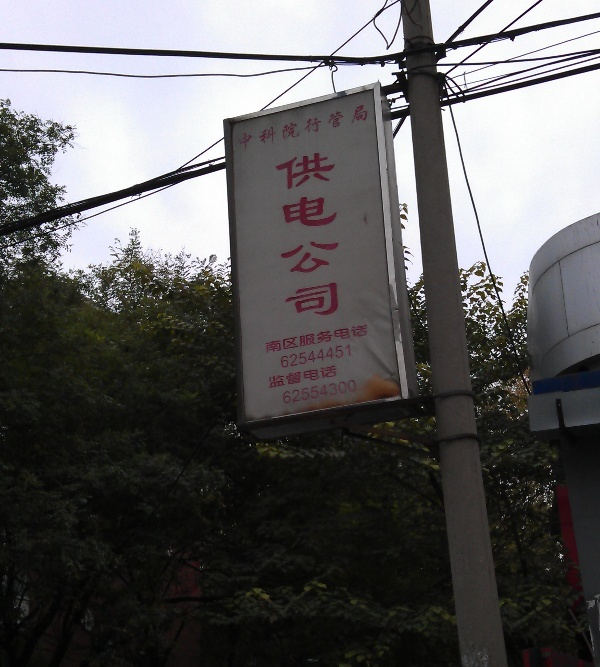text: (289, 146, 304, 323), (305, 146, 320, 323), (321, 146, 336, 323), (274, 146, 288, 323), (337, 146, 345, 323), (241, 104, 256, 153), (257, 104, 272, 153), (273, 104, 288, 153), (289, 104, 304, 153), (305, 104, 320, 153), (321, 104, 336, 153), (337, 104, 352, 153), (353, 104, 368, 153), (353, 324, 369, 354), (273, 324, 288, 354), (289, 324, 304, 354), (305, 324, 320, 354), (321, 324, 336, 354), (337, 324, 352, 354), (289, 379, 304, 406), (305, 379, 320, 406), (321, 379, 336, 406), (337, 379, 352, 406), (337, 344, 353, 368), (289, 344, 304, 368), (305, 344, 320, 368), (321, 344, 336, 368), (273, 365, 288, 389), (289, 365, 304, 389), (305, 365, 320, 389), (321, 365, 336, 389), (265, 324, 272, 354), (280, 344, 288, 368), (283, 379, 288, 406), (353, 379, 358, 406), (269, 365, 272, 389), (239, 104, 240, 153), (337, 365, 338, 389)
